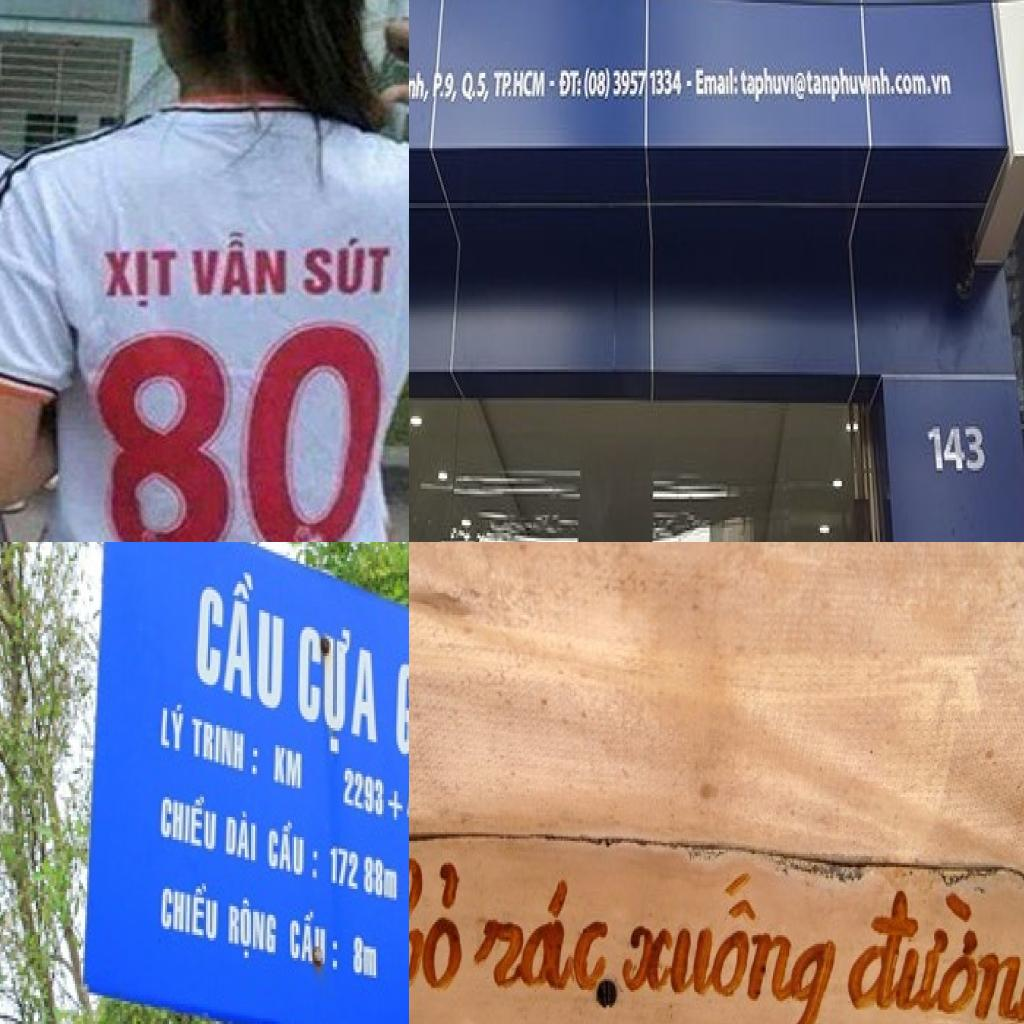text: (223, 320, 393, 542), (613, 869, 847, 1024), (81, 322, 241, 542), (469, 880, 612, 996), (194, 550, 290, 722), (296, 607, 384, 777), (185, 228, 293, 300), (409, 858, 464, 996), (300, 233, 395, 301), (190, 710, 263, 786), (917, 416, 991, 489), (326, 840, 402, 909), (157, 782, 224, 858), (100, 248, 180, 310), (159, 869, 222, 946), (265, 808, 323, 889), (226, 889, 282, 972), (341, 762, 407, 832), (584, 63, 686, 104), (288, 906, 343, 975), (222, 805, 262, 869), (392, 638, 409, 776), (490, 65, 550, 104), (272, 739, 306, 797), (693, 63, 741, 104), (159, 696, 187, 760), (459, 65, 492, 112), (428, 65, 462, 107), (558, 60, 585, 104), (409, 62, 434, 109)
